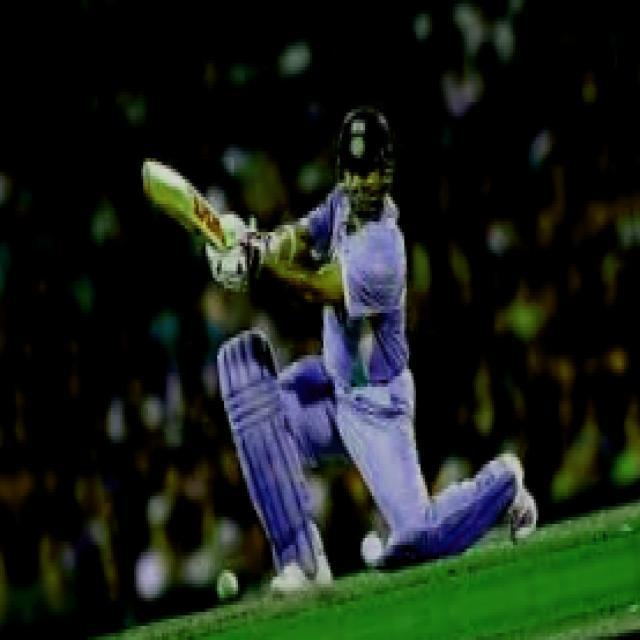bat: (130, 153, 255, 250)
toe: (130, 158, 159, 194)
